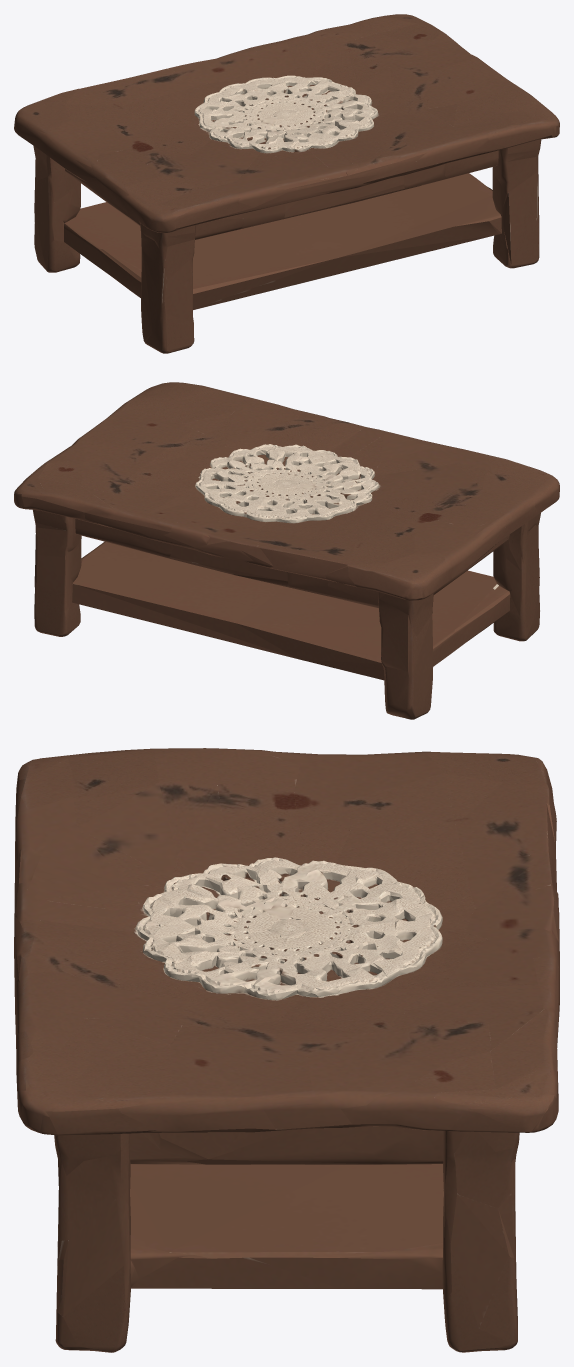
The model's file is tavolino.glb.
The picture shows the model from 3 angles, top to bottom: view 1: azimuth 30°, elevation 25°; view 2: azimuth 150°, elevation 25°; view 3: azimuth 270°, elevation 25°; orthographic projection. The views are drawn at different scales.
Visible parts, largest first — view 1: Mesh_0; view 2: Mesh_0; view 3: Mesh_0.
Boxes of the visible parts, x1,y1,x2,y2 form: Mesh_0: [14, 14, 559, 353]; Mesh_0: [14, 382, 559, 719]; Mesh_0: [14, 748, 559, 1352].
Size of the model in its own units: 1.9 by 0.6795 by 1.23.
1 material, 1 textured.
